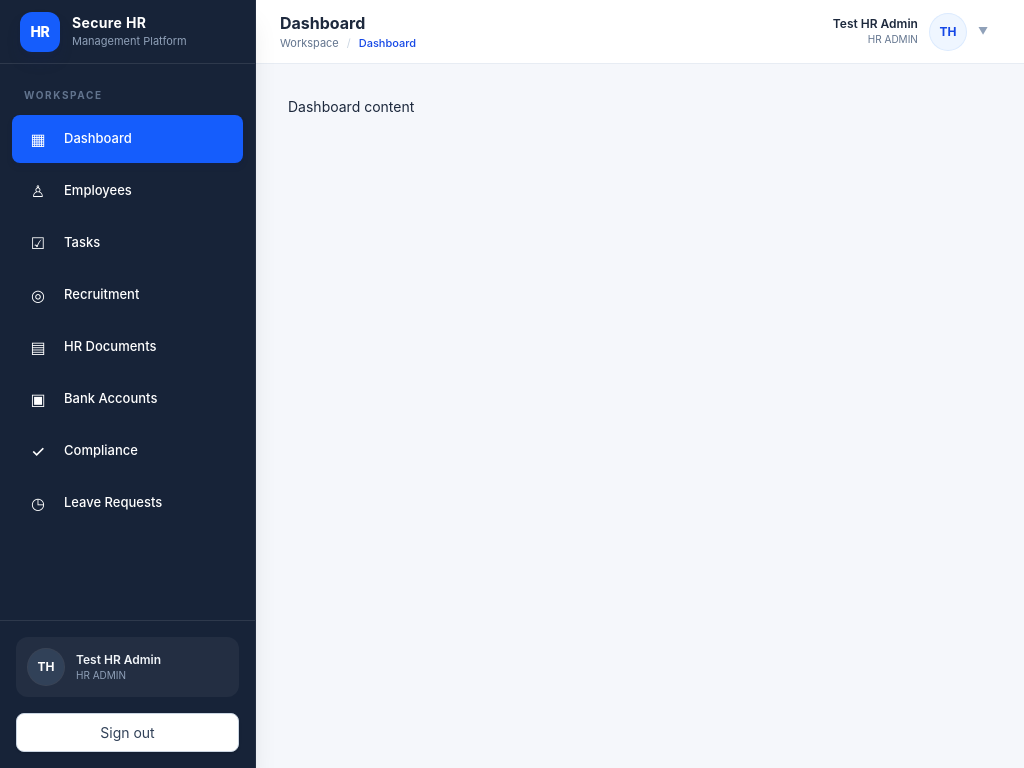
Test: AppLayout › logs out from the sidebar after confirmation
The image size is (1024, 768).
Click the button "Sign out" at (128, 732), box top-left (16, 713), bottom-right (239, 752)
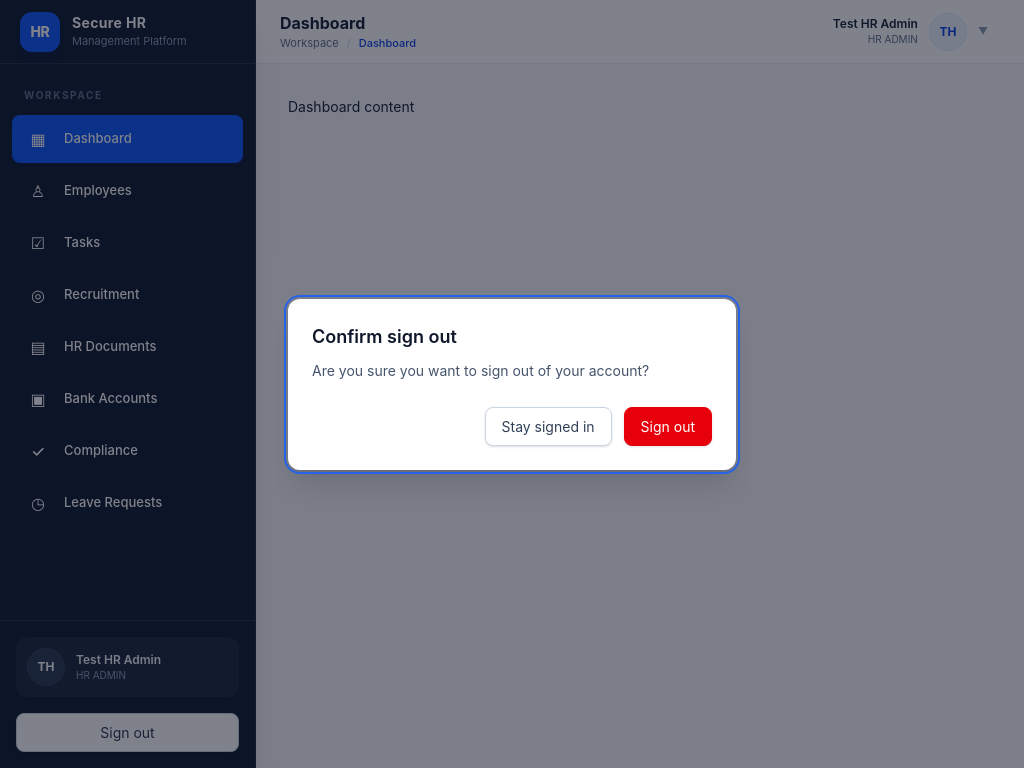
Check: the dialog is shown, box top-left (288, 298), bottom-right (736, 470)
# Confirmer la déconnexion dans la boîte de dialogue
Click the button "Sign out" at (668, 426), box top-left (624, 406), bottom-right (712, 446)
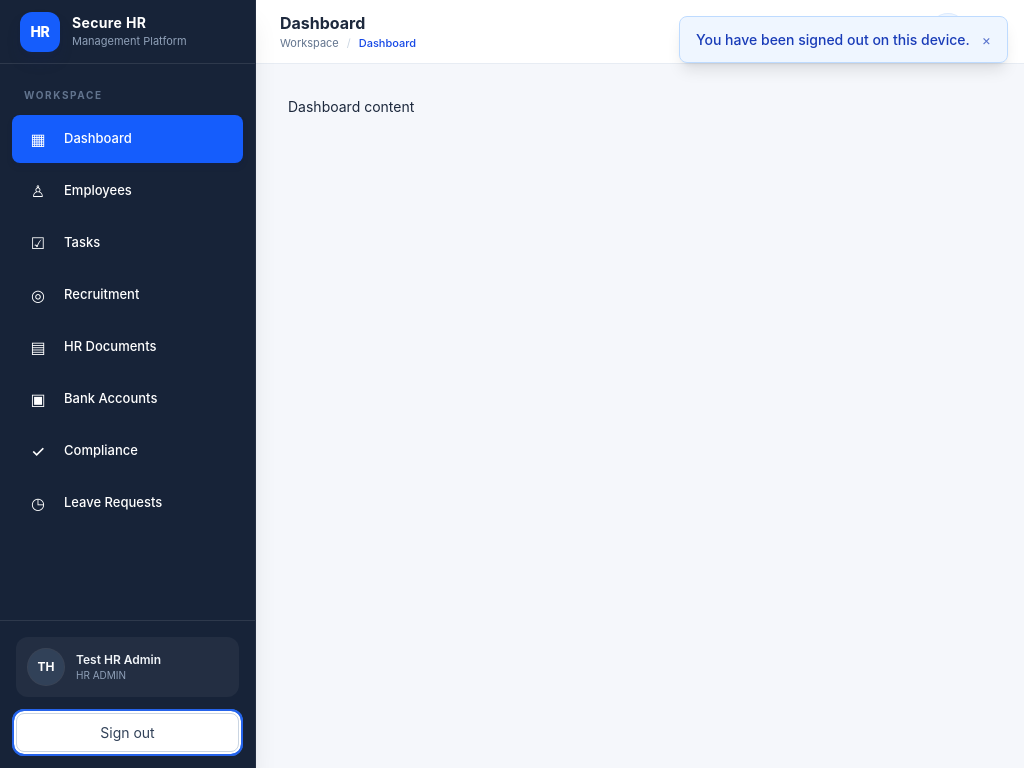
Check: the dialog is gone
